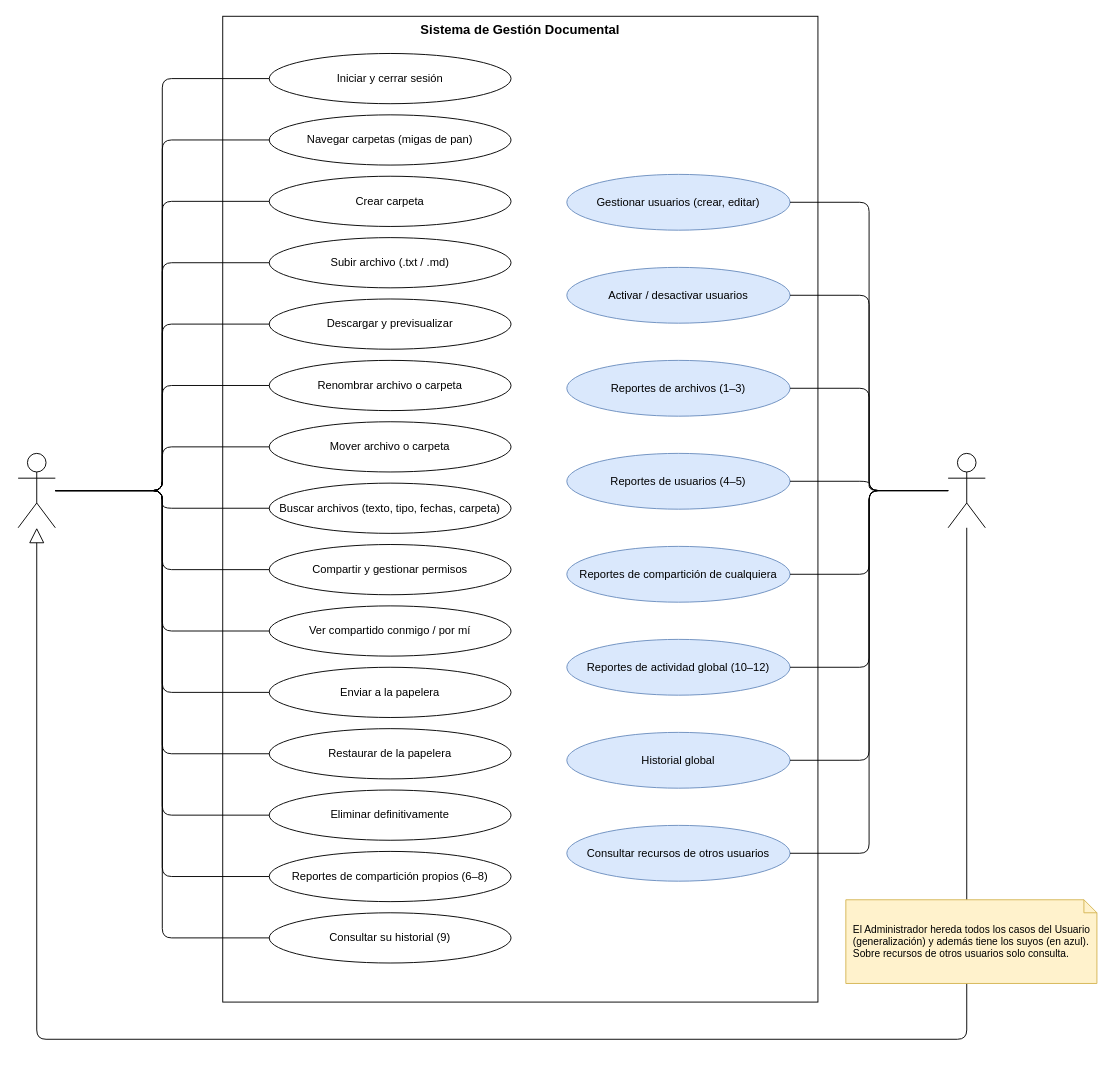
Image size: 1113x1070. Some labels were removed from this diagram. The shapes that lost their labels are listed below. From the top down, each one's centre as x and y in pixels, then its label:
At (x=36, y=490): "Usuario".
At (x=966, y=490): "Administrador".
